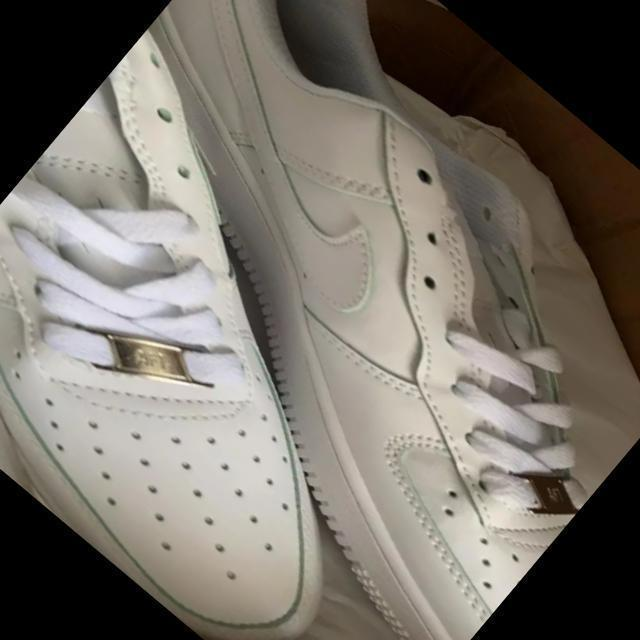nike fake air force: (0, 0, 640, 640), (0, 25, 615, 640)
